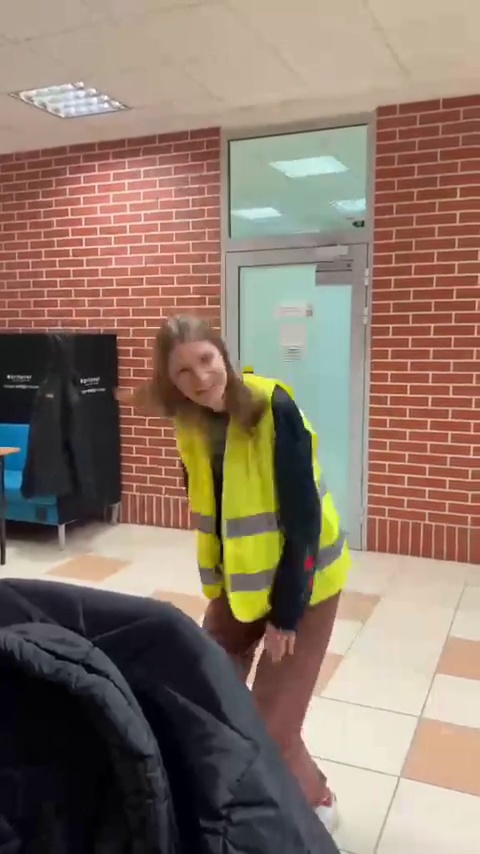vest: (138, 319, 357, 816)
